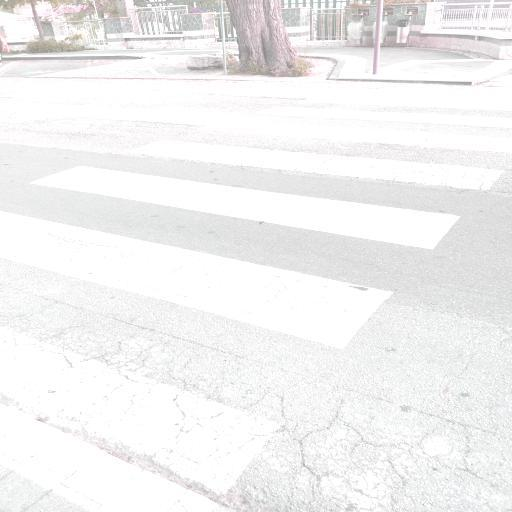crosswalk: (24, 131, 508, 260)
